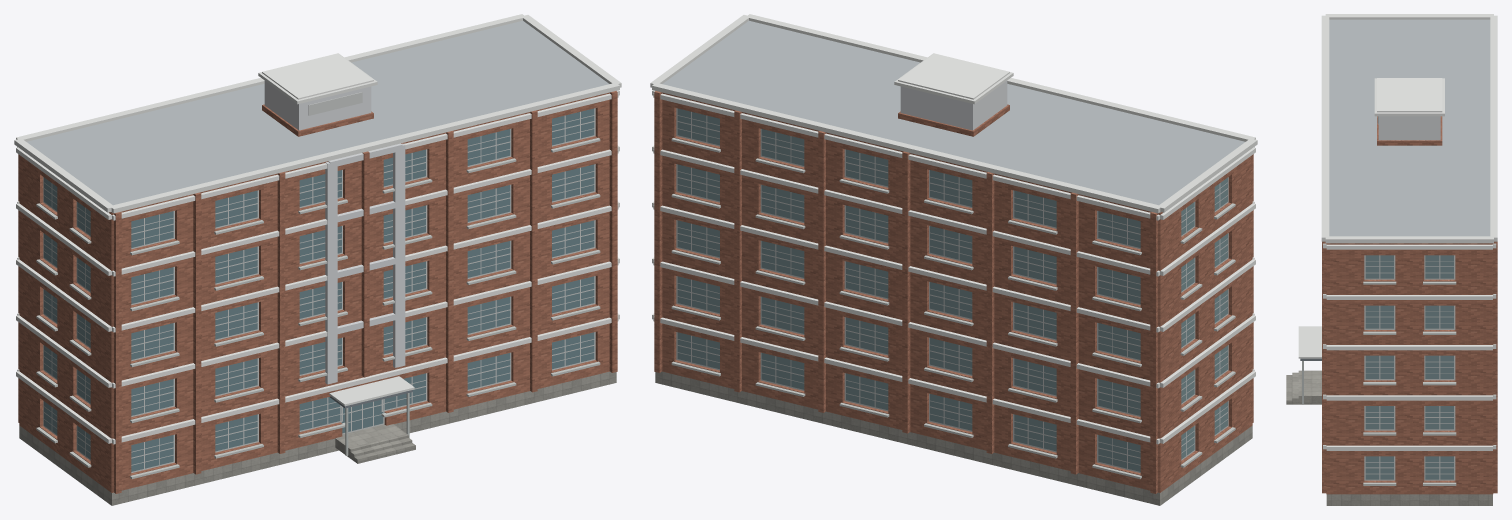
3 renders of one model, left to right at view 1: azimuth 30°, elevation 25°; view 2: azimuth 150°, elevation 25°; view 3: azimuth 270°, elevation 25°, orthographic. The views are drawn at different scales.
Parts seen in each view (by area): view 1: north-west-wing__brick, north-west-wing__metalroof, north-west-wing__glass, north-west-wing__band, north-west-wing__frame, north-west-wing__cap, north-west-wing__panel, north-west-wing__sill, north-west-wing__stone, north-west-wing__sideglass, north-west-wing__stair-front, north-west-wing__threshold-front; view 2: north-west-wing__brick, north-west-wing__sideglass, north-west-wing__metalroof, north-west-wing__band, north-west-wing__frame, north-west-wing__cap, north-west-wing__stone, north-west-wing__sill, north-west-wing__panel; view 3: north-west-wing__brick, north-west-wing__metalroof, north-west-wing__cap, north-west-wing__band, north-west-wing__sideglass, north-west-wing__frame, north-west-wing__stone, north-west-wing__panel, north-west-wing__sill, north-west-wing__threshold-front, north-west-wing__stair-front.
Boxes of the visible parts, box(x1,y1,x2,y2) form: north-west-wing__brick: box(18, 91, 617, 493); north-west-wing__metalroof: box(27, 20, 609, 212); north-west-wing__glass: box(131, 108, 594, 471); north-west-wing__band: box(16, 53, 619, 444); north-west-wing__frame: box(43, 92, 595, 472); north-west-wing__cap: box(14, 14, 621, 406); north-west-wing__panel: box(264, 81, 405, 384); north-west-wing__sill: box(36, 138, 600, 478); north-west-wing__stone: box(19, 371, 616, 505); north-west-wing__sideglass: box(44, 177, 90, 459); north-west-wing__stair-front: box(347, 433, 415, 463); north-west-wing__threshold-front: box(335, 424, 404, 454); north-west-wing__brick: box(654, 91, 1253, 493); north-west-wing__sideglass: box(677, 108, 1227, 471); north-west-wing__metalroof: box(662, 20, 1244, 212); north-west-wing__band: box(652, 53, 1255, 444); north-west-wing__frame: box(676, 108, 1228, 472); north-west-wing__cap: box(650, 14, 1257, 213); north-west-wing__stone: box(655, 371, 1252, 505); north-west-wing__sill: box(671, 138, 1235, 478); north-west-wing__panel: box(900, 81, 1007, 130); north-west-wing__brick: box(1322, 116, 1497, 494); north-west-wing__metalroof: box(1329, 19, 1490, 236); north-west-wing__cap: box(1298, 14, 1497, 358); north-west-wing__band: box(1323, 78, 1496, 450); north-west-wing__sideglass: box(1365, 255, 1453, 479); north-west-wing__frame: box(1364, 116, 1455, 480); north-west-wing__stone: box(1326, 494, 1492, 505); north-west-wing__panel: box(1378, 116, 1440, 140); north-west-wing__sill: box(1363, 281, 1456, 485); north-west-wing__threshold-front: box(1305, 370, 1321, 404); north-west-wing__stair-front: box(1286, 370, 1304, 404).
Bounding box in the file's own units: 32.68 × 20.33 × 12.96.
Materials: 13 (2 with a texture image).
